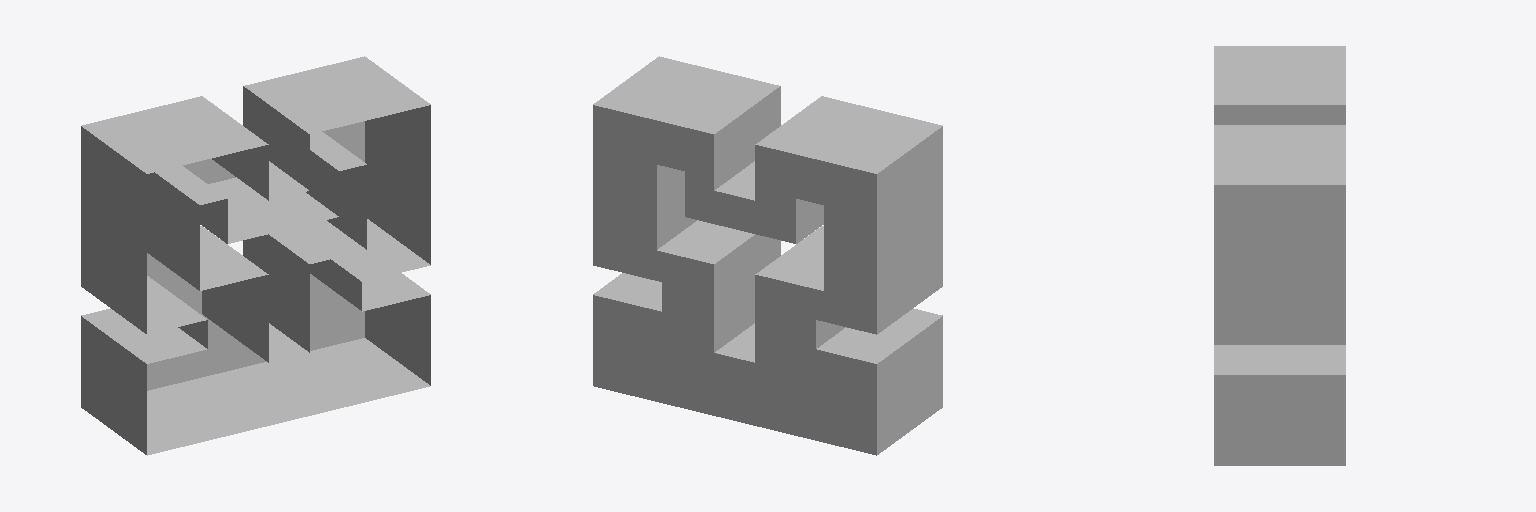
Rendered from key__1.obj.
3 renders of one model, left to right at view 1: azimuth 30°, elevation 25°; view 2: azimuth 150°, elevation 25°; view 3: azimuth 270°, elevation 25°, orthographic.
Parts seen in each view (by area): view 1: grp1; view 2: grp1; view 3: grp1.
Boxes of the visible parts, <box> form: grp1: <box>81,56,430,455</box>; grp1: <box>593,56,942,455</box>; grp1: <box>1214,46,1345,465</box>.
Size of the model in its own units: 8.54 by 8.08 by 3.45.